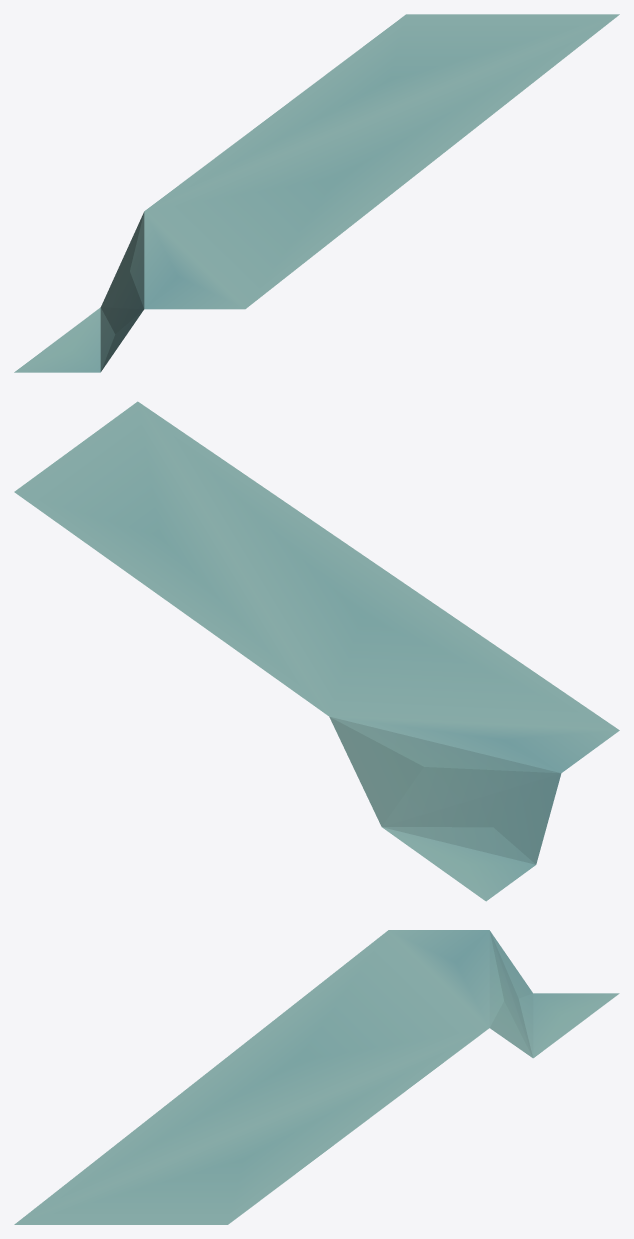
Rendered from water-20-4.glb.
3 views of the same model, one above another, from view 1: azimuth 90°, elevation 25°; view 2: azimuth 150°, elevation 25°; view 3: azimuth 270°, elevation 25° (orthographic). The views are drawn at different scales.
Bounding box in the file's own units: 16 × 1.6 × 13.9.
